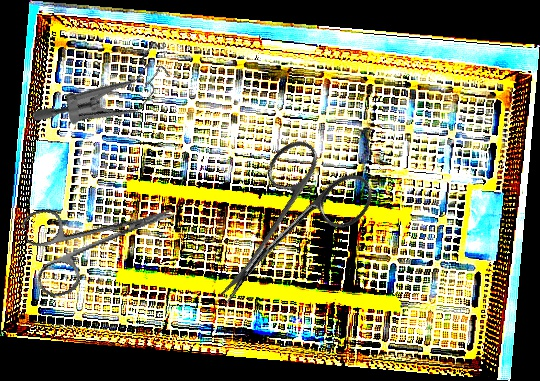Iris Scissors: (181, 125, 382, 339), (19, 173, 187, 301)
Speculum: (28, 5, 187, 170)
